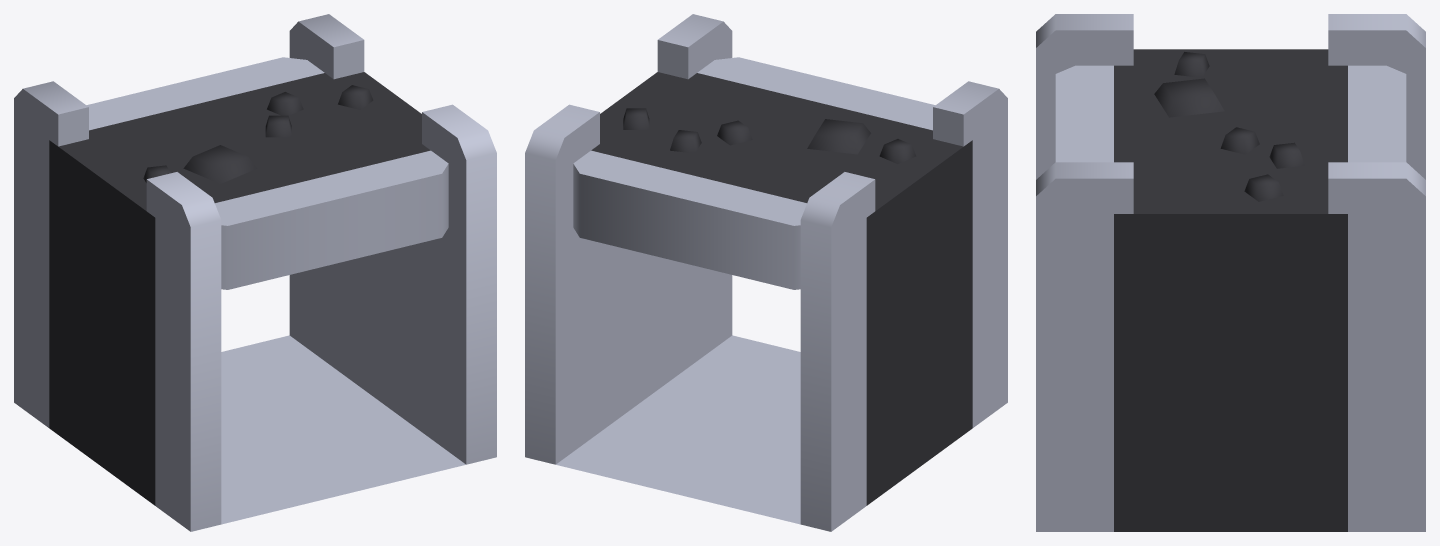
File: wall-opening.glb
The picture shows the model from 3 angles, left to right: view 1: azimuth 30°, elevation 25°; view 2: azimuth 150°, elevation 25°; view 3: azimuth 270°, elevation 25°; orthographic projection. The views are drawn at different scales.
Parts seen in each view (by area): view 1: wall-opening; view 2: wall-opening; view 3: wall-opening.
Boxes of the visible parts, x1,y1,x2,y2 form: wall-opening: [14, 14, 496, 531]; wall-opening: [525, 14, 1007, 531]; wall-opening: [1036, 14, 1425, 531].
Bounding box in the file's own units: 1 × 1 × 1.
